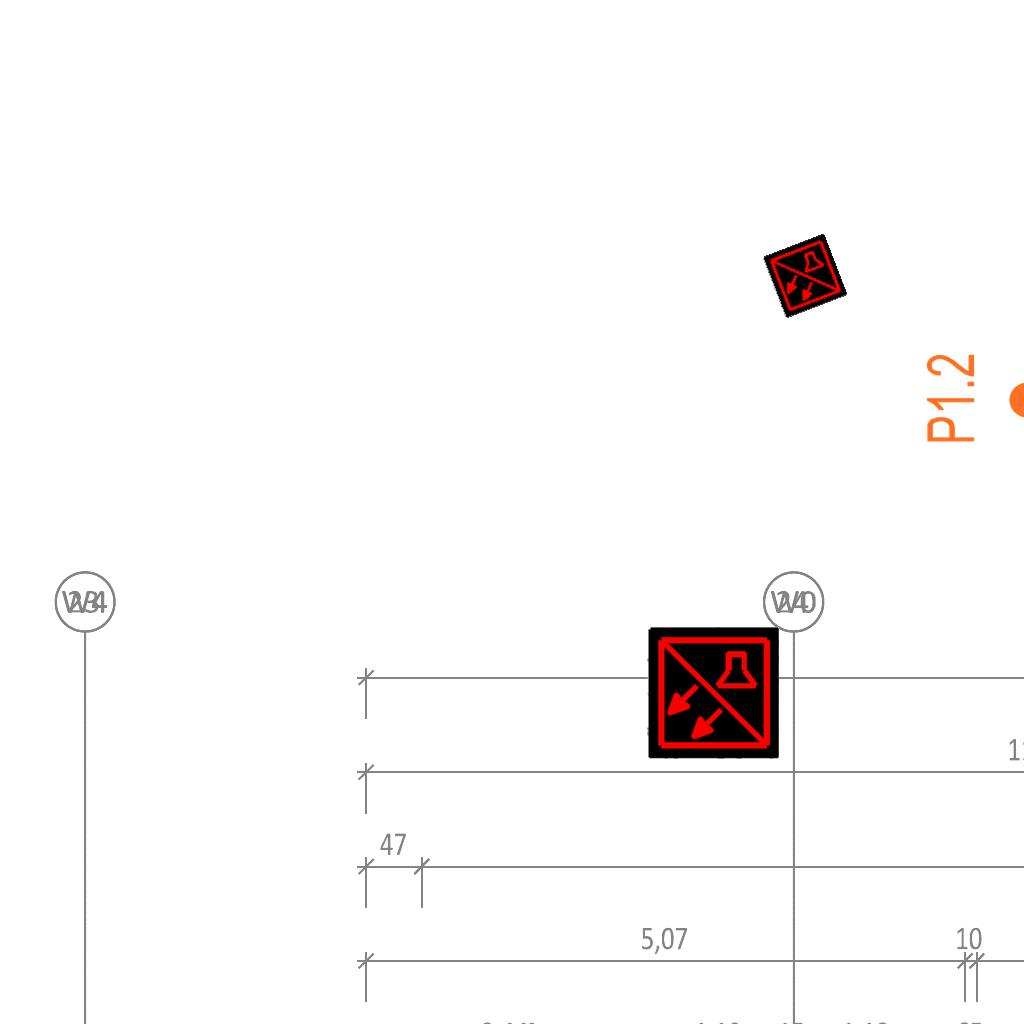Downlight_LED_Einbauleuchten_Flur: (923, 352, 1024, 445)
OKW_Multisensormelder_(Kombination_optischer_Rauch-Kahlenmonoxid_Waerme-Melder): (647, 627, 779, 759), (762, 233, 848, 319)
